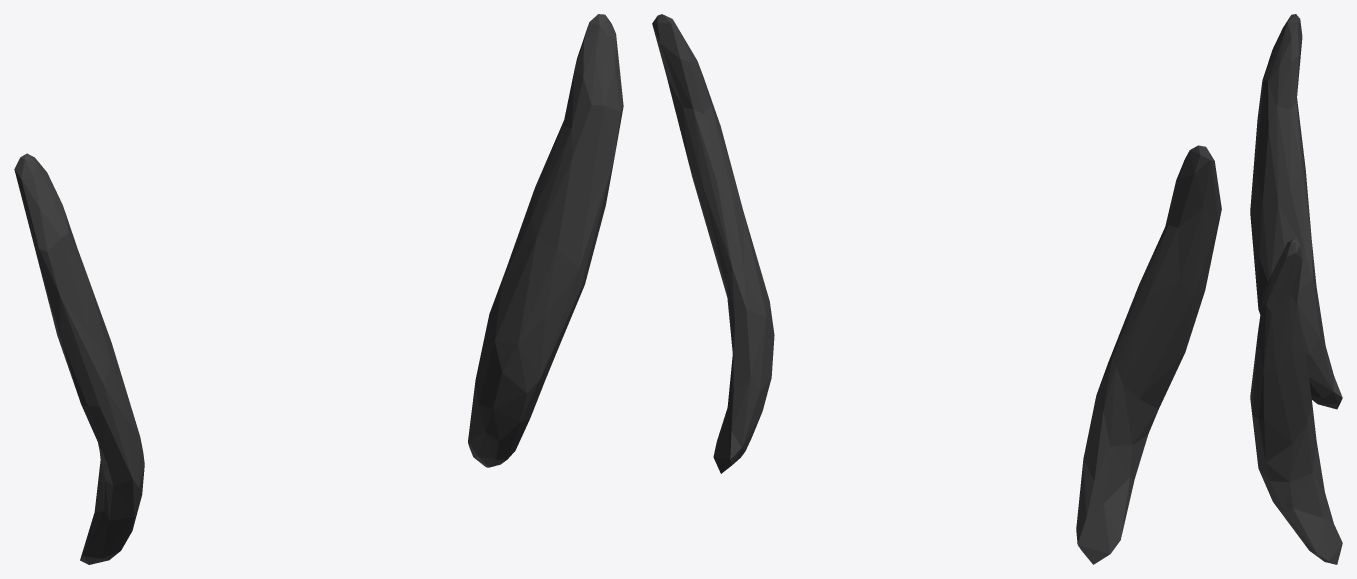
File: m_pronator_teres.glb
The picture shows the model from 3 angles, left to right: view 1: azimuth 30°, elevation 25°; view 2: azimuth 150°, elevation 25°; view 3: azimuth 270°, elevation 25°; orthographic projection. The views are drawn at different scales.
Visible parts, largest first — view 1: m_pronator_teres; view 2: m_pronator_teres; view 3: m_pronator_teres.
Part boxes in pixels (x1=…): m_pronator_teres: x1=14, y1=14, x2=623, y2=564; m_pronator_teres: x1=652, y1=14, x2=1221, y2=564; m_pronator_teres: x1=1250, y1=14, x2=1342, y2=564.
Bounding box in the file's own units: 0.00345 × 0.00249 × 0.000579.
Materials: 1 (1 with a texture image).
